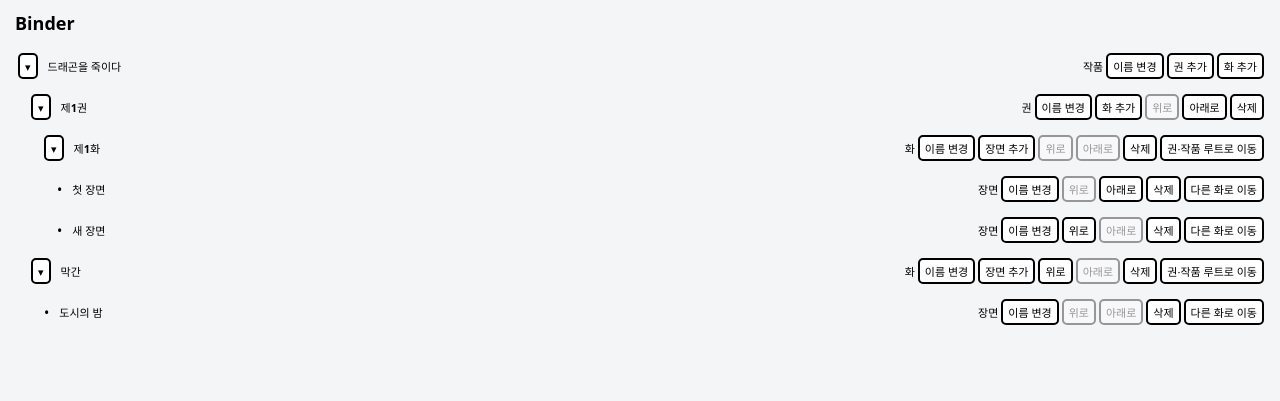
Test: Phase 1A Binder › cancels 첫 장면 without moving and clears the next selection
This screenshot has width=1280, height=401.
Click the button with aria-label "첫 장면 다른 화로 이동": (1224, 189) [1184,176,1264,202]
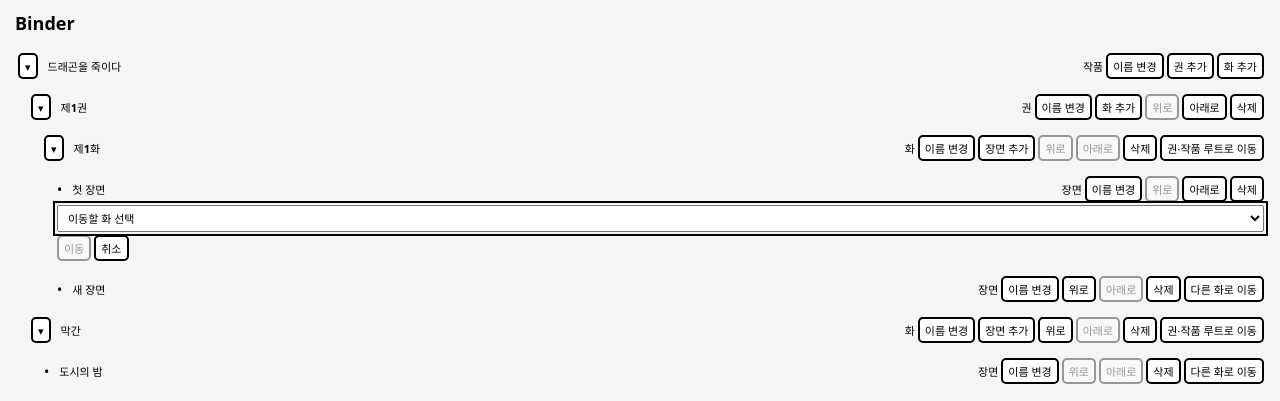
Select "드래곤을 죽이다 / 막간" in the dropdown named "첫 장면 이동할 화": (660, 218) [57,205,1264,232]
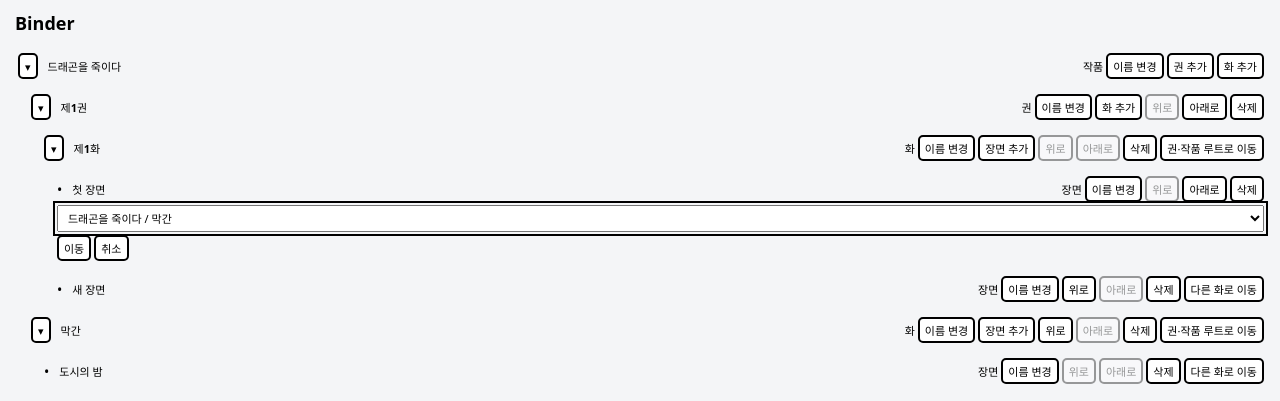
Click the button "취소": (111, 248) [94,235,129,261]
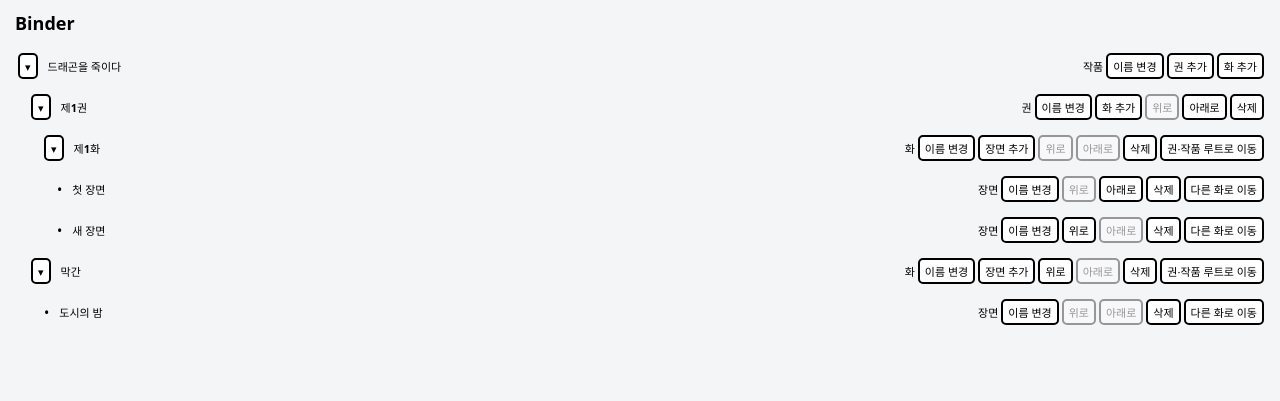
Check: the dropdown is gone
Click the button with aria-label "첫 장면 다른 화로 이동": (1224, 189) [1184,176,1264,202]
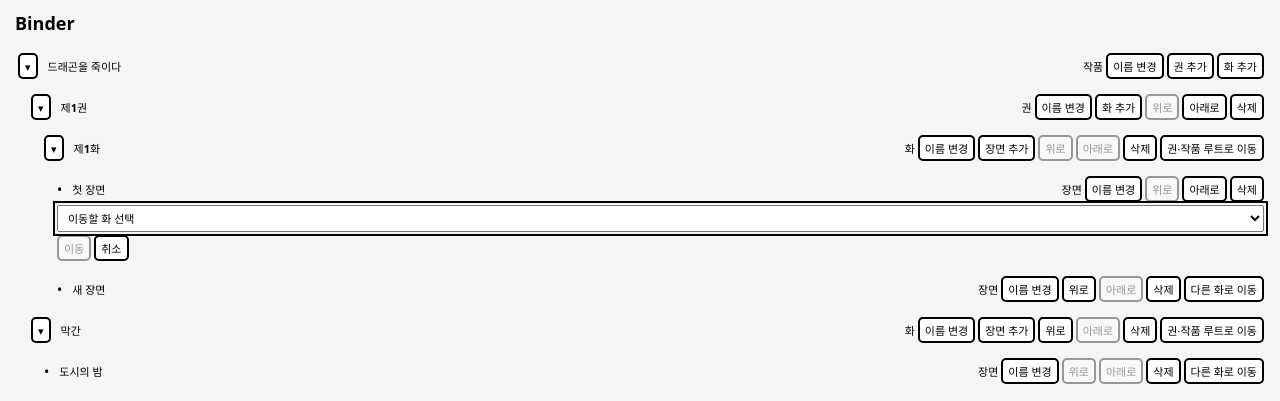
Check: the dropdown shows "이동할 화 선택", box [57,205,1264,232]
